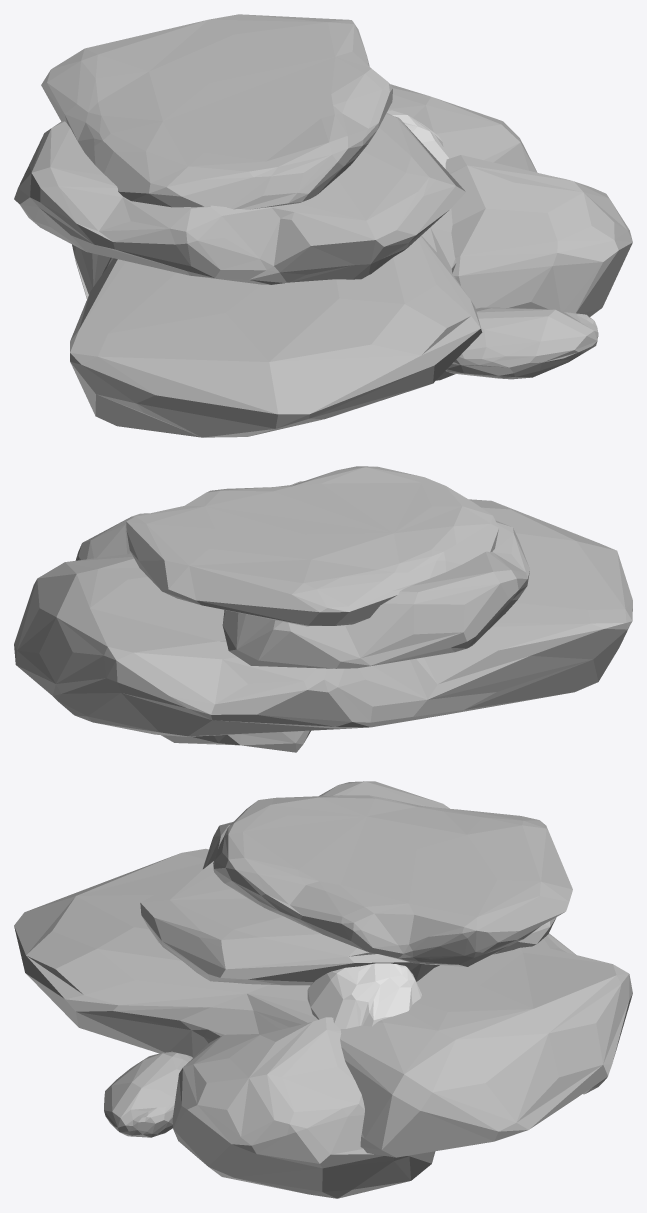
File: Rock_033.fbx
3 views of the same model, one above another, from view 1: azimuth 30°, elevation 25°; view 2: azimuth 150°, elevation 25°; view 3: azimuth 270°, elevation 25° (orthographic). The views are drawn at different scales.
Parts seen in each view (by area): view 1: Rock_033; view 2: Rock_033; view 3: Rock_033.
Boxes of the visible parts, x1,y1,x2,y2 form: Rock_033: [14, 14, 632, 437]; Rock_033: [14, 466, 632, 752]; Rock_033: [14, 781, 632, 1198].
Size of the model in its own units: 394 by 394 by 193.
Materials: 1 (1 with a texture image).
